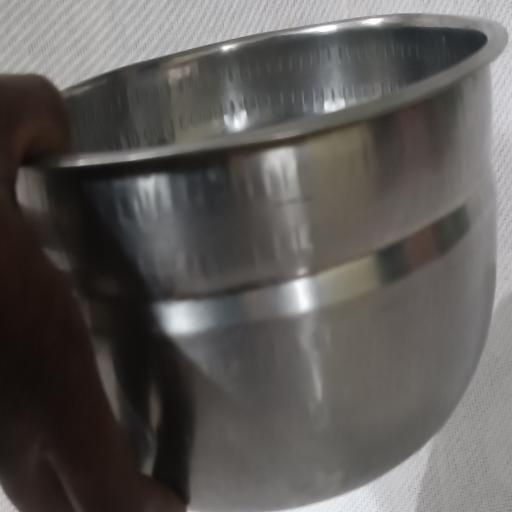vessel: (18, 15, 506, 512)
